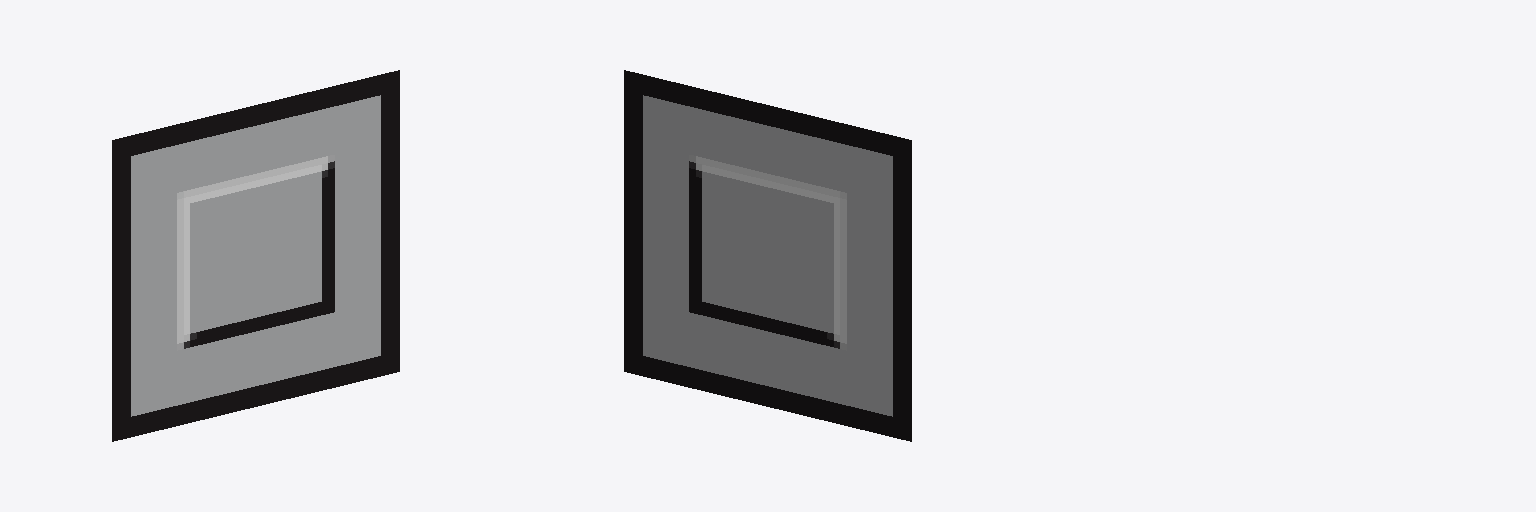
The picture shows the model from 3 angles: view 1: azimuth 30°, elevation 25°; view 2: azimuth 150°, elevation 25°; view 3: azimuth 270°, elevation 25°; orthographic projection.
Visible parts, largest first — view 1: Grey; view 2: Grey; view 3: none.
Boxes of the visible parts, x1,y1,x2,y2 form: Grey: [112, 70, 399, 441]; Grey: [624, 70, 911, 441].
Size of the model in its own units: 1 by 1 by 0.
1 materials, 1 textured.